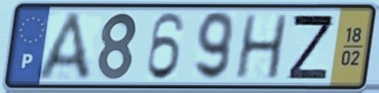6: (144, 10, 187, 83)
8: (95, 10, 139, 83)
9: (192, 10, 237, 84)
A: (33, 9, 96, 83)
H: (232, 12, 290, 82)
Z: (286, 13, 337, 82)
